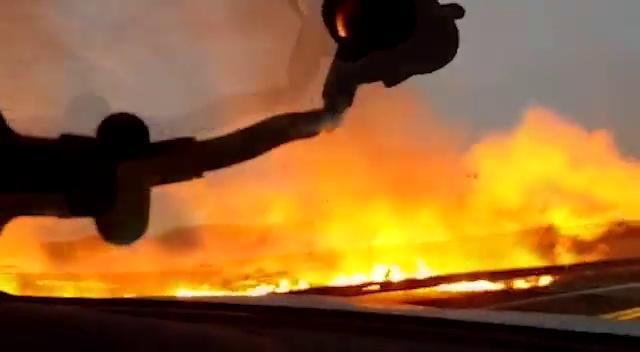fire: (311, 264, 520, 295), (182, 284, 311, 297)
